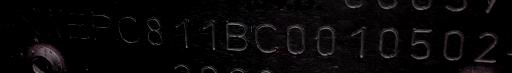letter: (252, 20, 280, 57), (223, 20, 251, 53), (472, 30, 500, 63), (407, 26, 433, 61), (314, 22, 338, 59), (376, 24, 400, 61), (13, 6, 41, 37), (38, 6, 64, 39), (64, 9, 90, 40), (89, 10, 113, 43), (116, 13, 140, 46), (284, 23, 308, 56), (441, 28, 465, 61), (200, 17, 220, 52), (349, 23, 367, 60), (172, 15, 190, 50), (144, 15, 164, 46)
